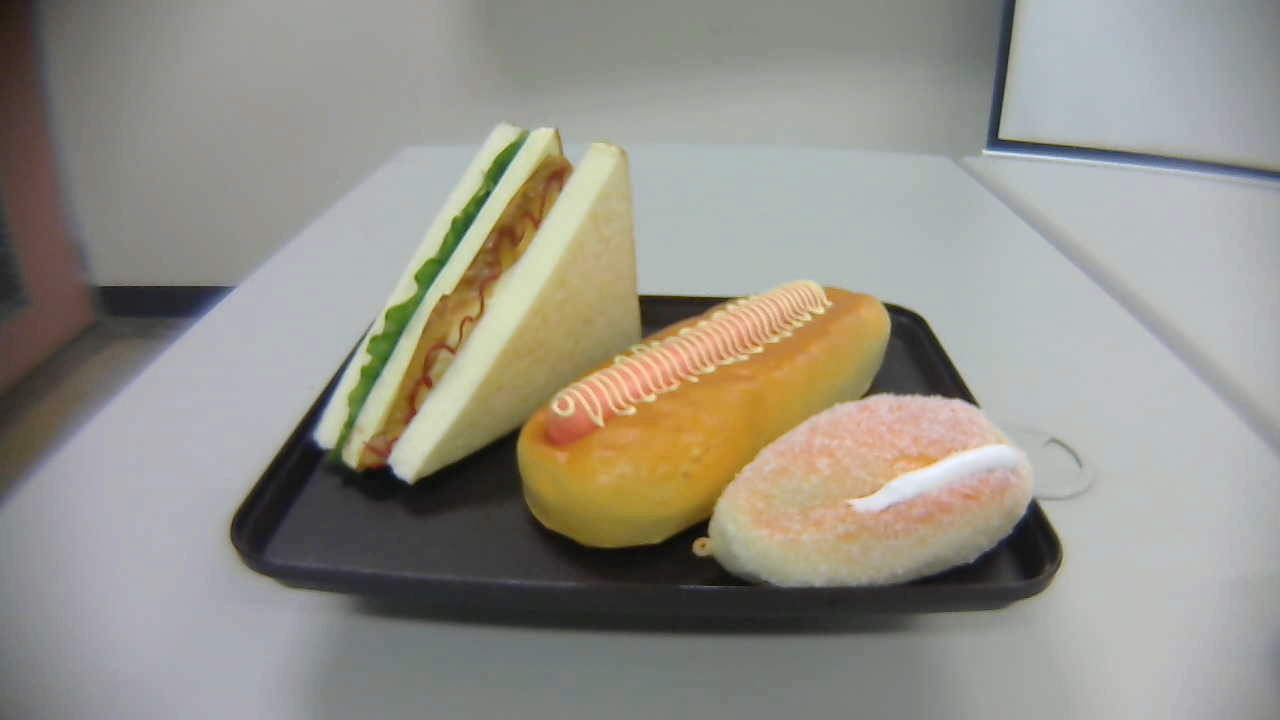coconut: (696, 392, 1034, 588)
hot dog: (518, 279, 890, 547)
sandwich: (312, 120, 645, 487)
